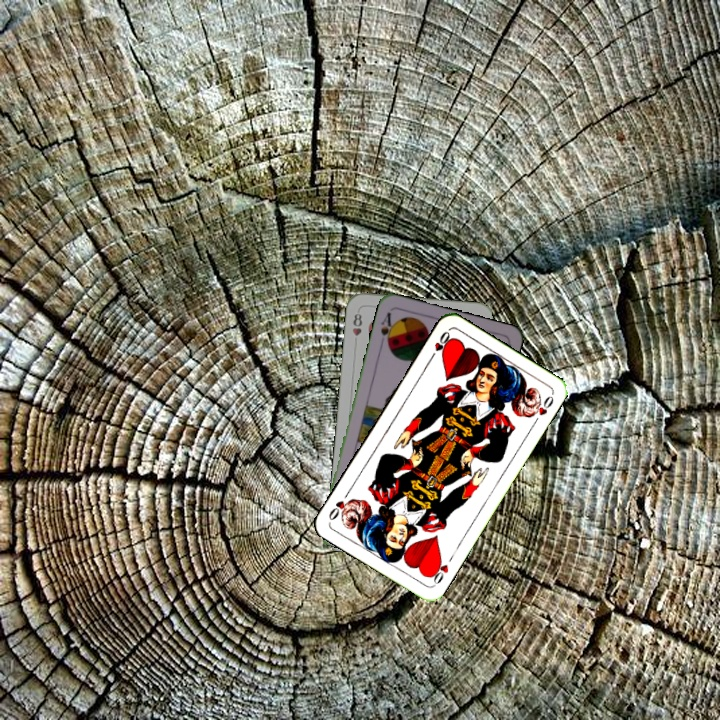H8: (348, 309, 365, 338)
HO: (426, 327, 454, 363), (425, 555, 451, 588)
SA: (377, 308, 397, 349)
